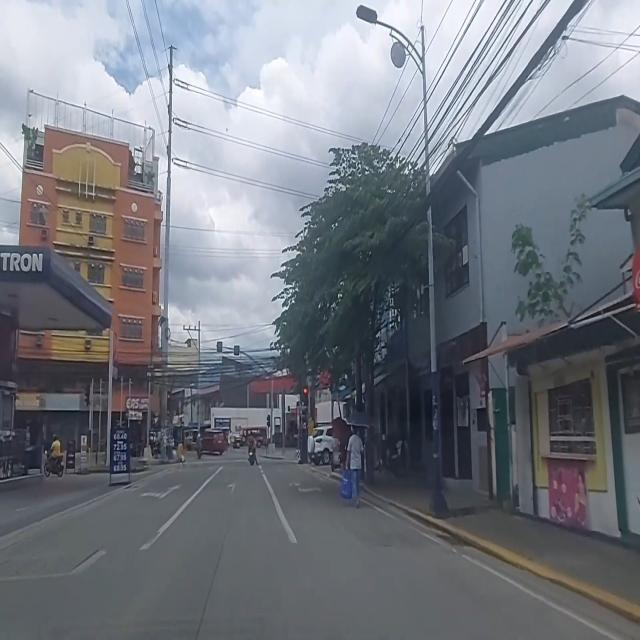car: (308, 426, 339, 466), (201, 430, 225, 454)
jeepney: (230, 424, 268, 450)
motorcycle: (44, 432, 64, 478), (248, 430, 258, 466), (195, 430, 203, 460)
